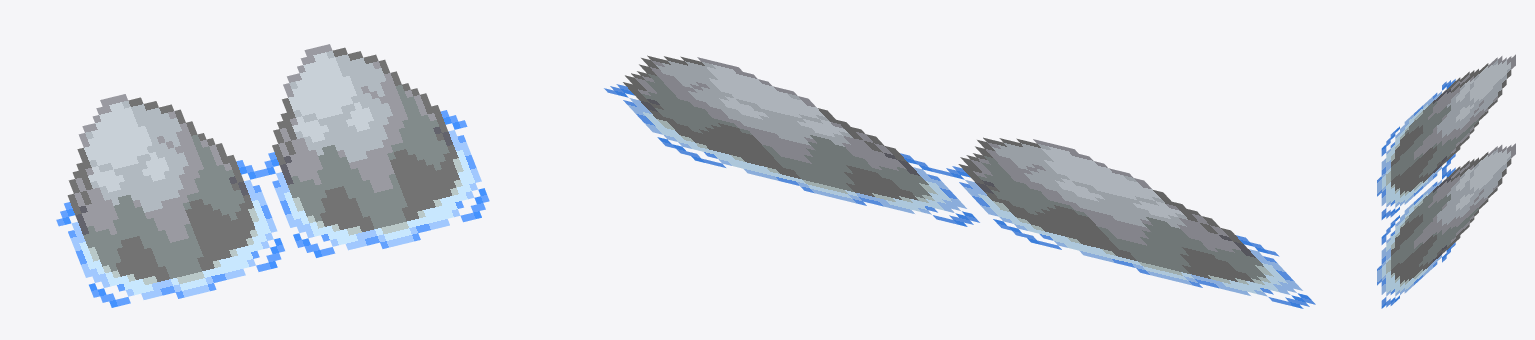
3 renders of one model, left to right at view 1: azimuth 30°, elevation 25°; view 2: azimuth 150°, elevation 25°; view 3: azimuth 270°, elevation 25°, orthographic. The views are drawn at different scales.
Bounding box in the file's own units: 4 × 1.41 × 1.41.
Materials: 1 (1 with a texture image).
